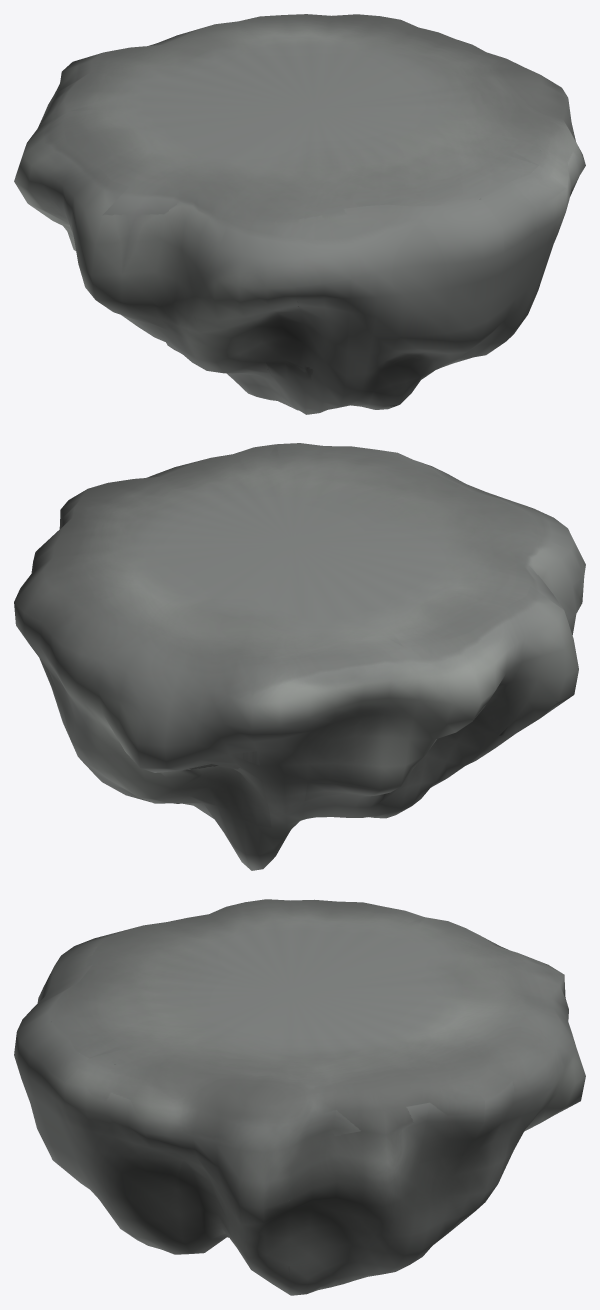
File: Plataforma.fbx
The picture shows the model from 3 angles, top to bottom: view 1: azimuth 30°, elevation 25°; view 2: azimuth 150°, elevation 25°; view 3: azimuth 270°, elevation 25°; orthographic projection. The views are drawn at different scales.
Visible parts, largest first — view 1: Sphere; view 2: Sphere; view 3: Sphere.
Part boxes in pixels (x1,y1,x2,y2): Sphere: [14, 14, 585, 414]; Sphere: [14, 443, 585, 870]; Sphere: [14, 899, 585, 1295].
Bounding box in the file's own units: 203 × 108 × 210.
Materials: 1 (1 with a texture image).
